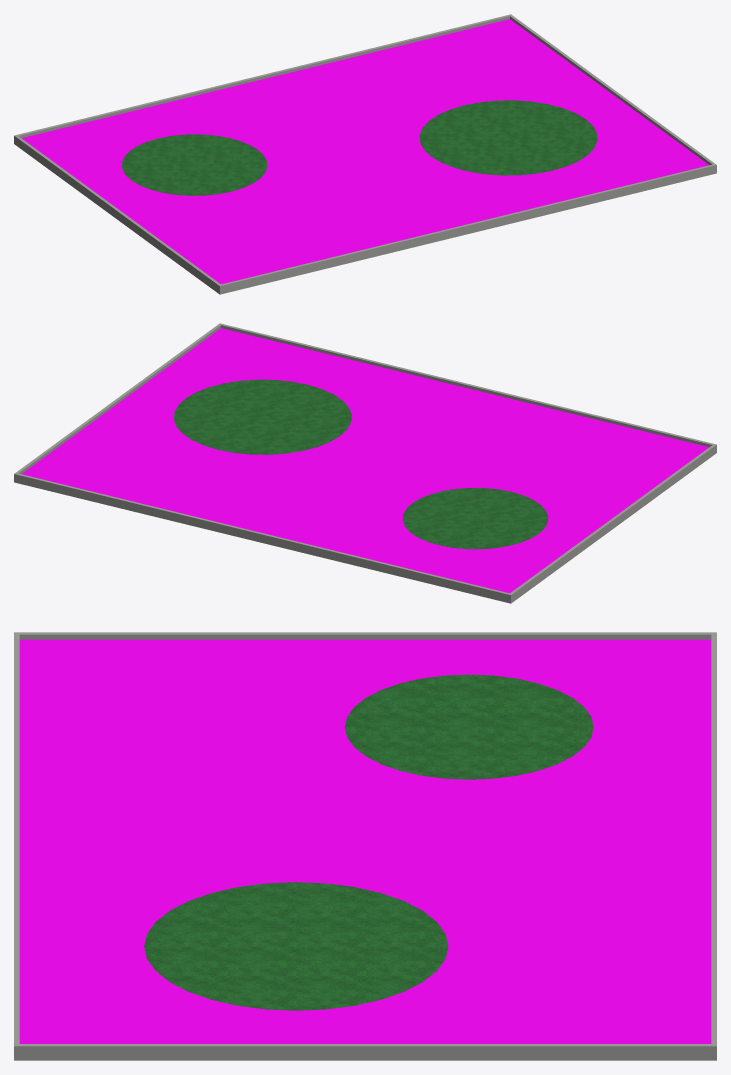
File: EN_Yard_PlaygroundPad.fbx
3 renders of one model, top to bottom at view 1: azimuth 30°, elevation 25°; view 2: azimuth 150°, elevation 25°; view 3: azimuth 270°, elevation 25°, orthographic. The views are drawn at different scales.
Visible parts, largest first — view 1: COL_DriveSurface, EN_Yard_PlaygroundPad_Mesh; view 2: COL_DriveSurface, EN_Yard_PlaygroundPad_Mesh; view 3: COL_DriveSurface, EN_Yard_PlaygroundPad_Mesh.
Part boxes in pixels (x1,y1,x2,y2): COL_DriveSurface: (21,19,708,284); EN_Yard_PlaygroundPad_Mesh: (14,14,716,294); COL_DriveSurface: (22,328,709,593); EN_Yard_PlaygroundPad_Mesh: (14,323,716,603); COL_DriveSurface: (19,639,711,1043); EN_Yard_PlaygroundPad_Mesh: (14,632,716,1060).
Size of the model in its own units: 14.16 by 0.23 by 10.16.
